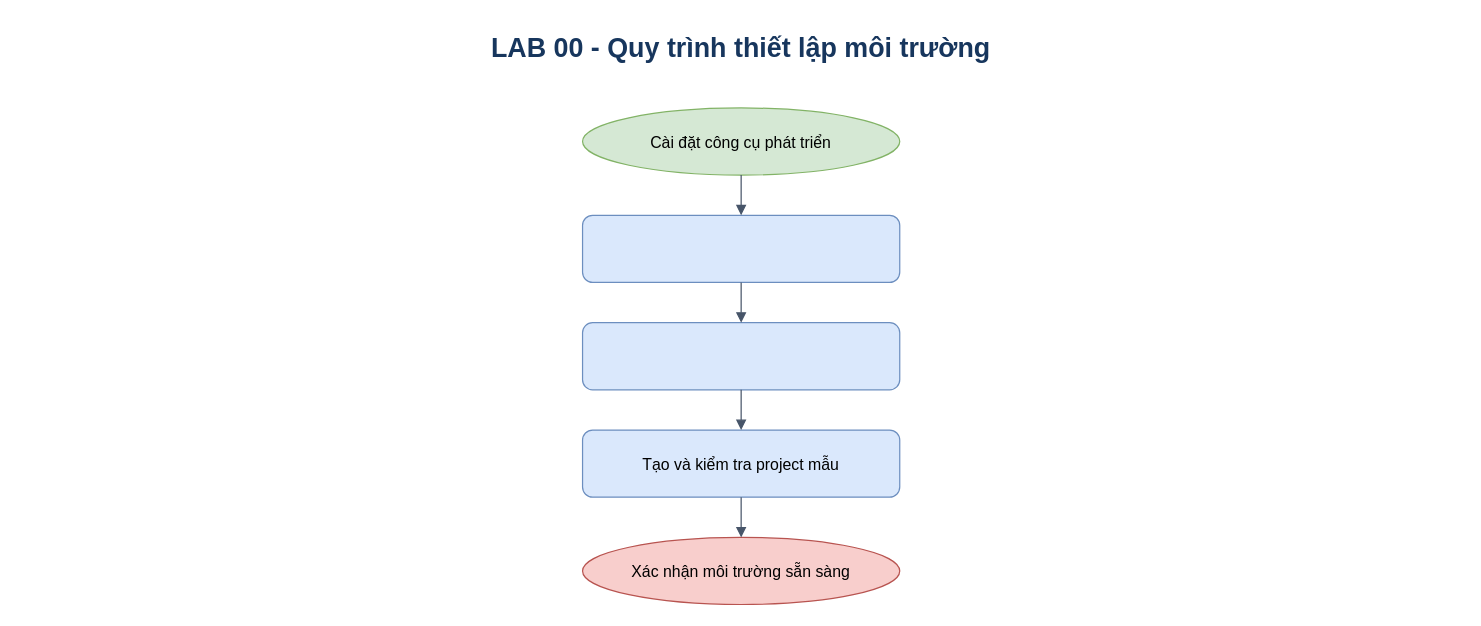
The diagram is 1481 pixels wide and 626 high, and some of its shapes have lost their labels. The box of each missing label's shape, as (x1, y1, x2, y2) in pixels:
Cài đặt Draw.io / CASE tools: (581, 321, 900, 390)
Cài đặt SQL Server và công cụ quản trị: (581, 214, 900, 282)
